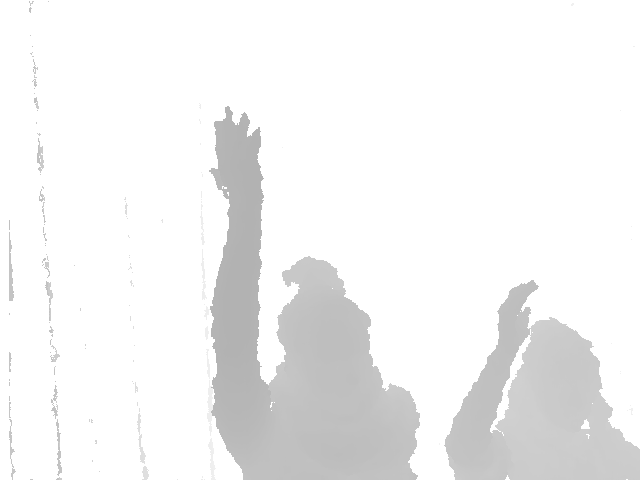hand: (208, 100, 269, 209), (493, 276, 538, 349)
head: (267, 256, 378, 391), (506, 320, 612, 429)
person: (201, 103, 427, 480), (440, 273, 639, 480)
